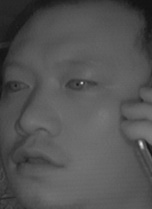eye: (64, 72, 99, 94), (3, 75, 32, 95)
mouth: (9, 141, 69, 183)
